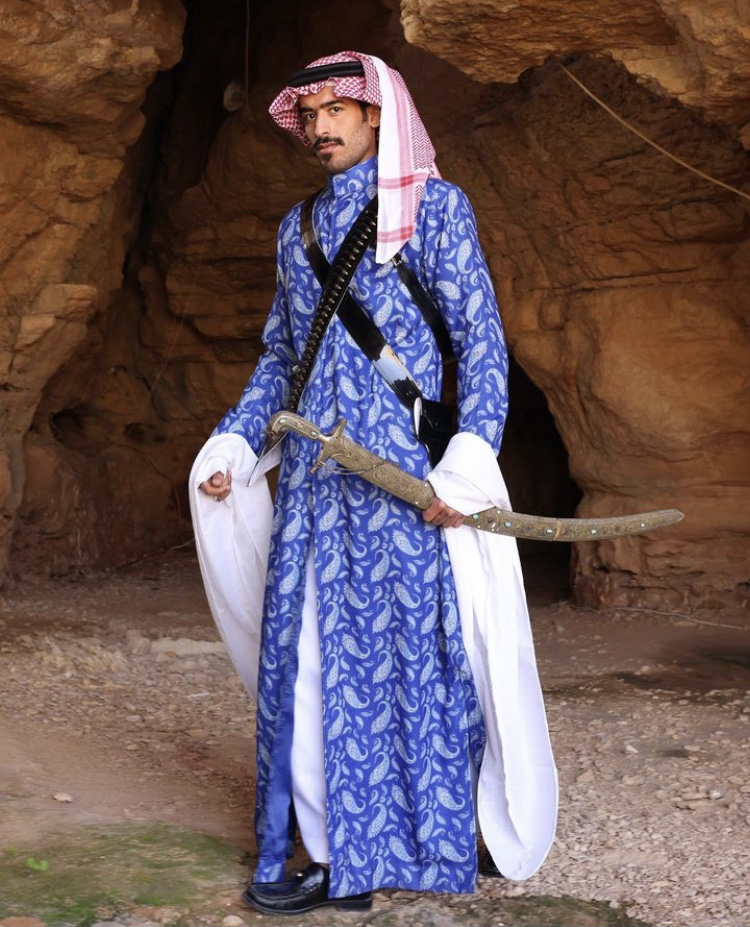Saudi_Founding_Day: (184, 39, 690, 918)
